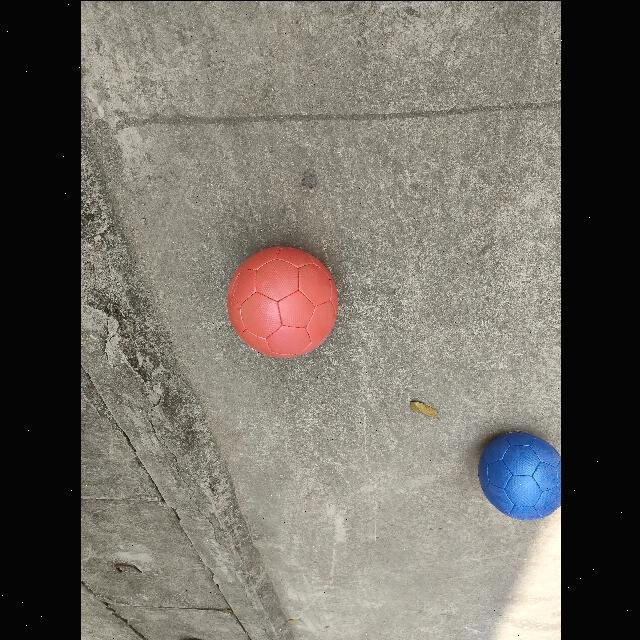B: (477, 431, 560, 519)
R: (227, 245, 336, 356)
